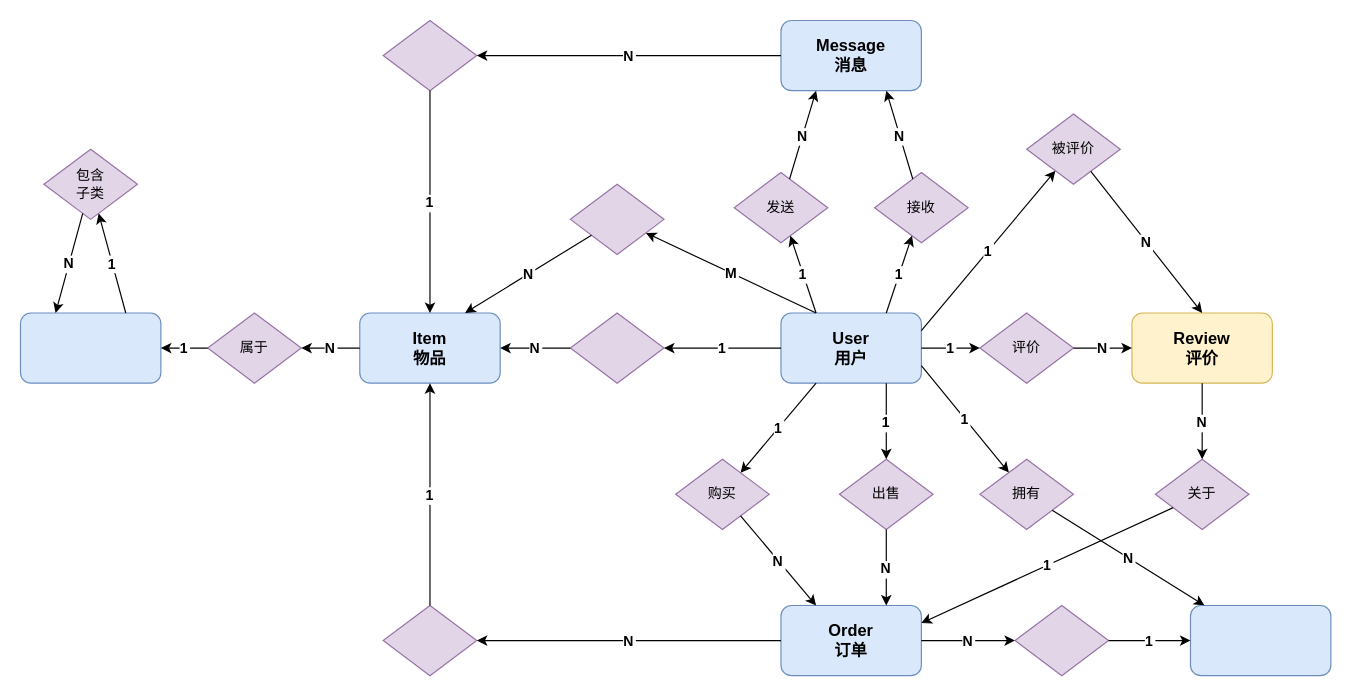
This 1351x696 diagram has some shape labels left out. Each missing label, with the centre of its shape:
Address 地址: (1260,640)
Category 分类: (90,347)
使用 地址: (1061,640)
关联: (429,55)
包含: (429,640)
发布: (616,347)
收藏: (616,218)
